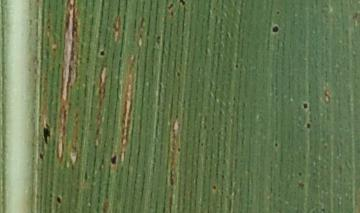tarspot: (42, 124, 51, 145), (38, 152, 46, 161), (110, 153, 116, 165), (297, 183, 305, 191), (271, 25, 279, 32), (155, 35, 161, 44), (302, 102, 308, 109), (178, 1, 186, 6), (99, 50, 105, 56), (305, 123, 311, 129), (234, 63, 239, 68), (297, 171, 302, 176), (212, 185, 216, 191), (167, 4, 173, 8), (56, 196, 60, 202), (170, 11, 174, 16), (176, 71, 180, 76), (274, 142, 277, 147), (276, 11, 280, 14), (177, 148, 180, 151)
